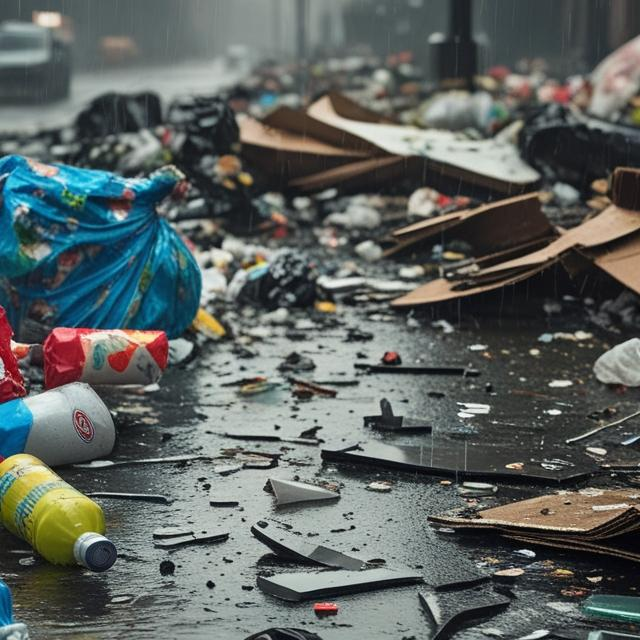plastic: (0, 458, 129, 594)
